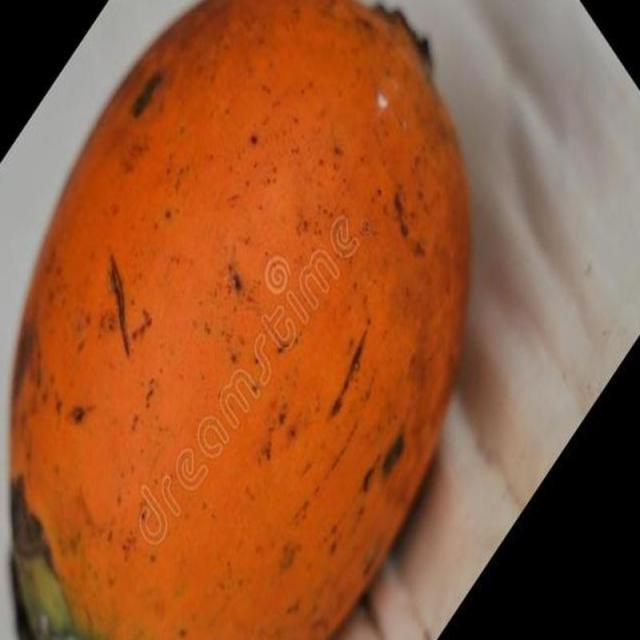good: (6, 0, 473, 639)
